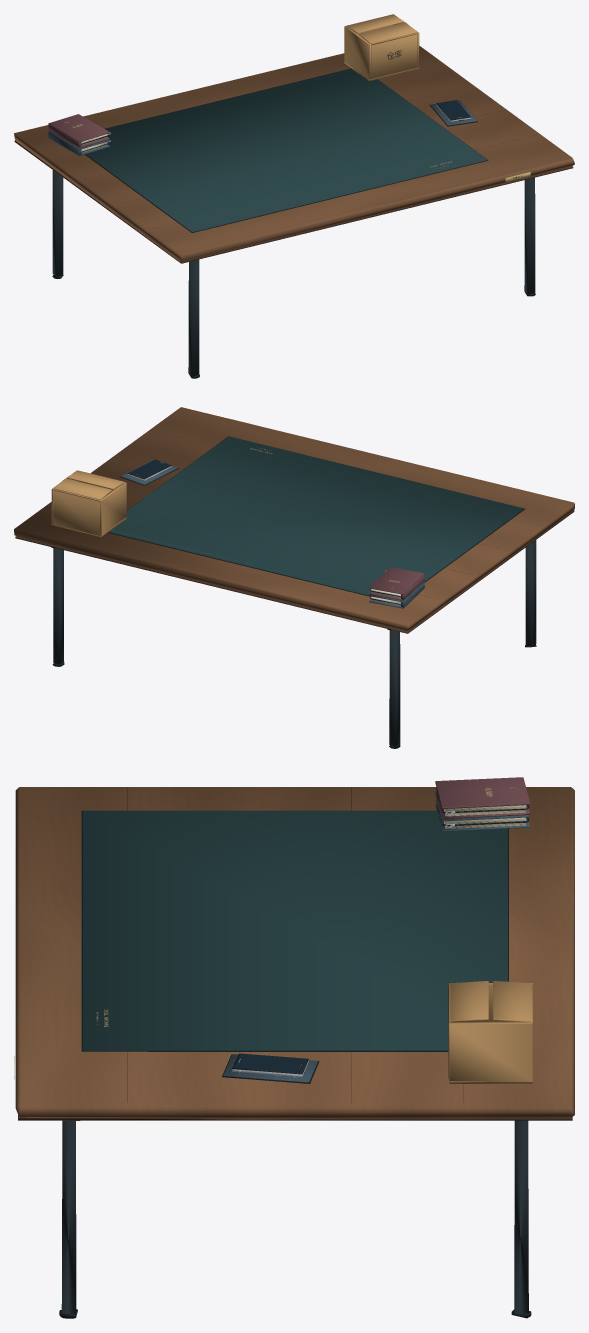
The model's file is card-shop-web.glb.
3 views of the same model, one above another, from view 1: azimuth 30°, elevation 25°; view 2: azimuth 150°, elevation 25°; view 3: azimuth 270°, elevation 25° (orthographic). The views are drawn at different scales.
Visible parts, largest first — view 1: Mat / Woven teal mat, Desk / Oiled walnut, Desk / Graphite metal, Warehouse / Natural kraft cardboard, Desk / End grain walnut, BinderCover / Oxblood leather, Mat / Rubber and zipper tape, WarehouseFlapFront / Natural kraft cardboard, WarehouseFlapBack / Natural kraft cardboard; view 2: Mat / Woven teal mat, Desk / Oiled walnut, Desk / Graphite metal, Warehouse / Natural kraft cardboard, Desk / End grain walnut, BinderCover / Oxblood leather, Mat / Rubber and zipper tape, WarehouseFlapBack / Natural kraft cardboard, WarehouseFlapFront / Natural kraft cardboard; view 3: Mat / Woven teal mat, Desk / Oiled walnut, Desk / Graphite metal, Warehouse / Natural kraft cardboard, BinderCover / Oxblood leather, Desk / End grain walnut, WarehouseFlapBack / Natural kraft cardboard, WarehouseFlapFront / Natural kraft cardboard, Mat / Rubber and zipper tape, Binder / Warm card paper, Binder / Linen stitching, Phone / PhoneScreen (+1 smaller).
Part boxes in pixels (box(x1,y1,x2,y2)): Mat / Woven teal mat: box(86, 68, 487, 232); Desk / Oiled walnut: box(14, 46, 574, 261); Desk / Graphite metal: box(52, 170, 535, 376); Warehouse / Natural kraft cardboard: box(344, 14, 419, 80); Desk / End grain walnut: box(14, 61, 573, 263); BinderCover / Oxblood leather: box(48, 114, 109, 142); Mat / Rubber and zipper tape: box(85, 72, 488, 232); WarehouseFlapFront / Natural kraft cardboard: box(359, 22, 417, 43); WarehouseFlapBack / Natural kraft cardboard: box(346, 14, 404, 33); Mat / Woven teal mat: box(109, 436, 523, 595); Desk / Oiled walnut: box(14, 407, 574, 632); Desk / Graphite metal: box(51, 540, 536, 746); Warehouse / Natural kraft cardboard: box(51, 470, 126, 537); Desk / End grain walnut: box(15, 433, 574, 633); BinderCover / Oxblood leather: box(369, 567, 424, 594); Mat / Rubber and zipper tape: box(108, 436, 524, 596); WarehouseFlapBack / Natural kraft cardboard: box(53, 478, 111, 500); WarehouseFlapFront / Natural kraft cardboard: box(66, 470, 124, 489); Mat / Woven teal mat: box(82, 810, 507, 1050); Desk / Oiled walnut: box(15, 787, 574, 1118); Desk / Graphite metal: box(61, 1120, 528, 1313); Warehouse / Natural kraft cardboard: box(449, 983, 532, 1083); BinderCover / Oxblood leather: box(435, 777, 530, 808); Desk / End grain walnut: box(18, 788, 572, 1120); WarehouseFlapBack / Natural kraft cardboard: box(493, 981, 531, 1022); WarehouseFlapFront / Natural kraft cardboard: box(450, 981, 488, 1022); Mat / Rubber and zipper tape: box(81, 810, 508, 1051); Binder / Warm card paper: box(444, 805, 526, 828); Binder / Linen stitching: box(444, 805, 525, 828); Phone / PhoneScreen: box(234, 1053, 306, 1072).
Size of the model in its own units: 21.51 by 9.33 by 15.92.
Materials: 15 (1 with a texture image).
